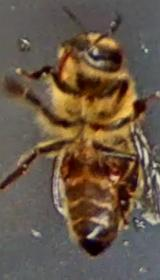varroa_mite: (101, 155, 124, 186), (52, 149, 72, 180)
